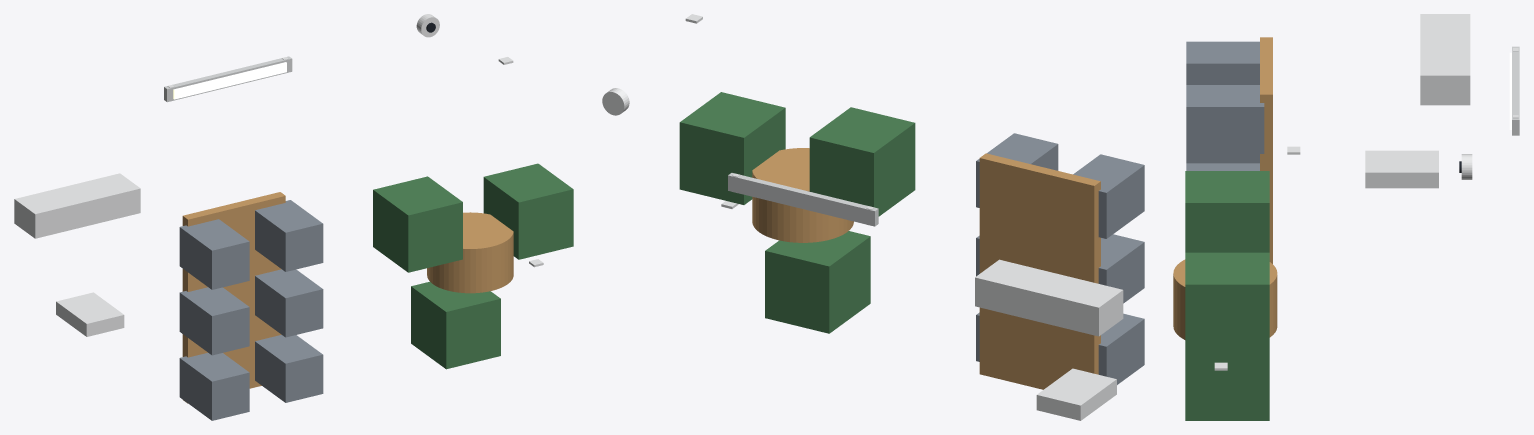
File: A3_interior.glb
3 renders of one model, left to right at view 1: azimuth 30°, elevation 25°; view 2: azimuth 150°, elevation 25°; view 3: azimuth 270°, elevation 25°, orthographic. The views are drawn at different scales.
Parts seen in each view (by area): view 1: FURN_A3_ARMCHAIR_02, FURN_A3_ARMCHAIR_01, FURN_A3_ARMCHAIR_03, DEV_A3_AC_WALL_01, FURN_A3_MEETING_TABLE_01, FURN_A3_ROUND_TABLE_01, FURN_A3_CHAIR_1_3, FURN_A3_CHAIR_1_2, FURN_A3_CHAIR_1_1, FURN_A3_CHAIR_2_3, FURN_A3_CHAIR_2_2, FURN_A3_CHAIR_2_1 (+3 smaller); view 2: FURN_A3_MEETING_TABLE_01, FURN_A3_ARMCHAIR_02, FURN_A3_ARMCHAIR_03, FURN_A3_ARMCHAIR_01, DEV_A3_AC_WALL_01, FURN_A3_ROUND_TABLE_01, FURN_A3_CHAIR_1_3, DEV_A3_LIGHT_CEILING_01, ELEC_A3_PANEL_01, FURN_A3_CHAIR_1_1, FURN_A3_CHAIR_1_2, FURN_A3_CHAIR_2_3 (+1 smaller); view 3: FURN_A3_ARMCHAIR_01, FURN_A3_ARMCHAIR_02, FURN_A3_ARMCHAIR_03, FURN_A3_CHAIR_2_3, DEV_A3_AC_WALL_01, FURN_A3_CHAIR_1_3, ELEC_A3_PANEL_01, FURN_A3_MEETING_TABLE_01, FURN_A3_ROUND_TABLE_01, FURN_A3_CHAIR_1_2, DEV_A3_LIGHT_CEILING_01, FURN_A3_CHAIR_2_2.
Part boxes in pixels (x1,y1,x2,y2): FURN_A3_ARMCHAIR_02: (373, 176, 462, 272); FURN_A3_ARMCHAIR_01: (483, 163, 573, 259); FURN_A3_ARMCHAIR_03: (411, 281, 500, 369); DEV_A3_AC_WALL_01: (14, 173, 140, 238); FURN_A3_MEETING_TABLE_01: (182, 192, 285, 403); FURN_A3_ROUND_TABLE_01: (427, 212, 513, 293); FURN_A3_CHAIR_1_3: (179, 219, 249, 289); FURN_A3_CHAIR_1_2: (179, 287, 249, 355); FURN_A3_CHAIR_1_1: (179, 353, 249, 420); FURN_A3_CHAIR_2_3: (255, 200, 323, 271); FURN_A3_CHAIR_2_2: (255, 269, 323, 337); FURN_A3_CHAIR_2_1: (255, 334, 323, 402); FURN_A3_MEETING_TABLE_01: (979, 153, 1100, 389); FURN_A3_ARMCHAIR_02: (809, 107, 915, 216); FURN_A3_ARMCHAIR_03: (765, 231, 870, 333); FURN_A3_ARMCHAIR_01: (679, 92, 785, 204); DEV_A3_AC_WALL_01: (975, 259, 1123, 336); FURN_A3_ROUND_TABLE_01: (752, 148, 853, 242); FURN_A3_CHAIR_1_3: (1073, 154, 1144, 238); DEV_A3_LIGHT_CEILING_01: (728, 173, 878, 226); ELEC_A3_PANEL_01: (1036, 368, 1116, 420); FURN_A3_CHAIR_1_1: (1098, 313, 1144, 384); FURN_A3_CHAIR_1_2: (1098, 234, 1144, 303); FURN_A3_CHAIR_2_3: (976, 133, 1058, 207); FURN_A3_ARMCHAIR_01: (1185, 252, 1269, 353); FURN_A3_ARMCHAIR_02: (1185, 171, 1269, 252); FURN_A3_ARMCHAIR_03: (1185, 353, 1269, 420); FURN_A3_CHAIR_2_3: (1186, 85, 1264, 153); DEV_A3_AC_WALL_01: (1420, 14, 1470, 105); FURN_A3_CHAIR_1_3: (1186, 41, 1259, 84); ELEC_A3_PANEL_01: (1365, 150, 1438, 188); FURN_A3_MEETING_TABLE_01: (1260, 37, 1272, 263); FURN_A3_ROUND_TABLE_01: (1173, 259, 1277, 339); FURN_A3_CHAIR_1_2: (1186, 154, 1259, 163); DEV_A3_LIGHT_CEILING_01: (1512, 46, 1519, 135); FURN_A3_CHAIR_2_2: (1186, 163, 1259, 170).
Size of the model in its own units: 5.63 by 3.09 by 3.19.
